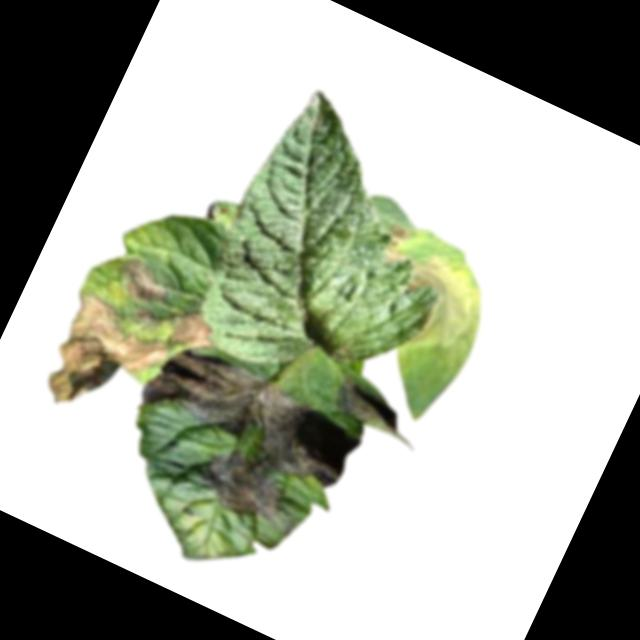Late_blight: (110, 333, 368, 548), (29, 288, 177, 439), (350, 234, 491, 366), (326, 370, 426, 447), (159, 302, 221, 361), (110, 252, 174, 308), (385, 219, 417, 245)
healthy: (180, 82, 497, 425)
